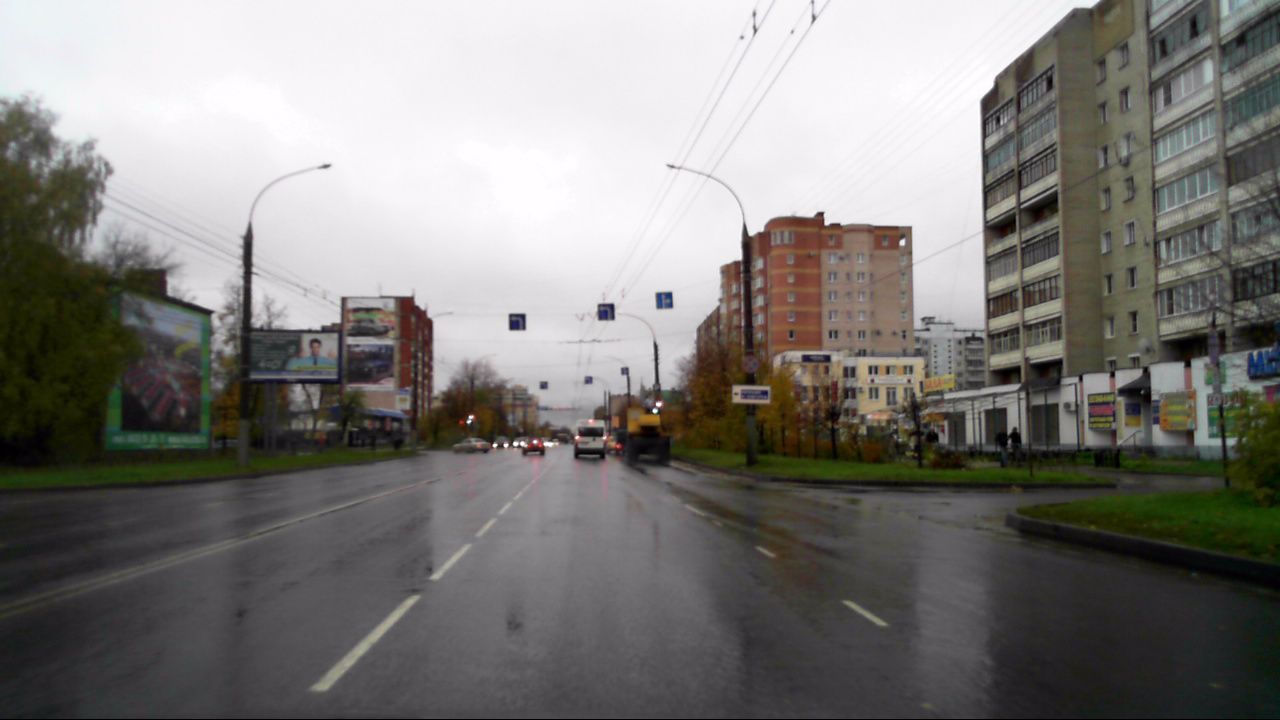No Parking: (740, 355, 759, 375)
